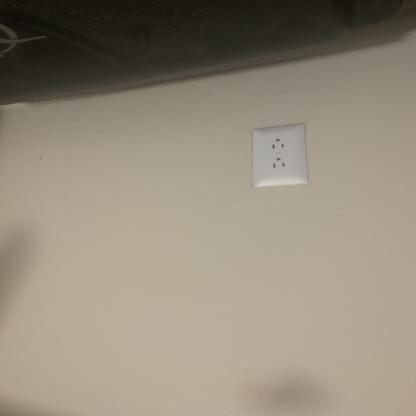OUTLET: (252, 126, 307, 186)
